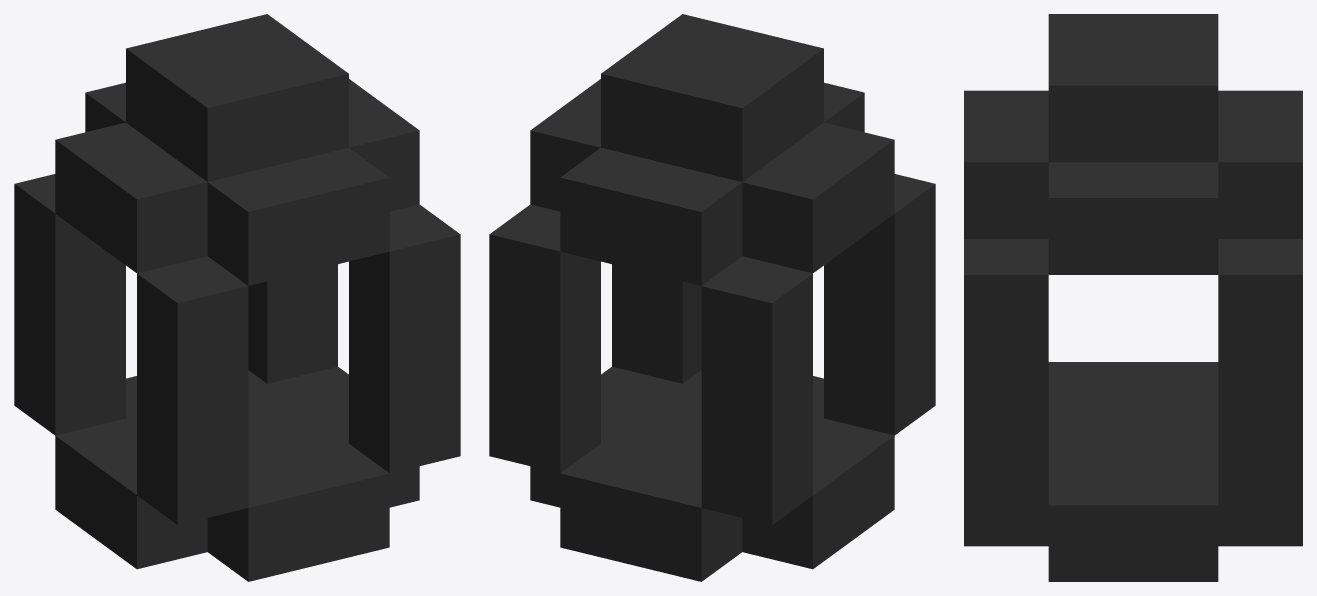
File: Medieval Assets-201-Potion - Container.obj
The picture shows the model from 3 angles, left to right: view 1: azimuth 30°, elevation 25°; view 2: azimuth 150°, elevation 25°; view 3: azimuth 270°, elevation 25°; orthographic projection. The views are drawn at different scales.
Visible parts, largest first — view 1: Potion - Container; view 2: Potion - Container; view 3: Potion - Container.
Part boxes in pixels (x1=…): Potion - Container: x1=14, y1=14, x2=460, y2=581; Potion - Container: x1=489, y1=14, x2=935, y2=581; Potion - Container: x1=964, y1=14, x2=1302, y2=581.
Bounding box in the file's own units: 0.4 × 0.6 × 0.4.
1 material, 1 textured.
